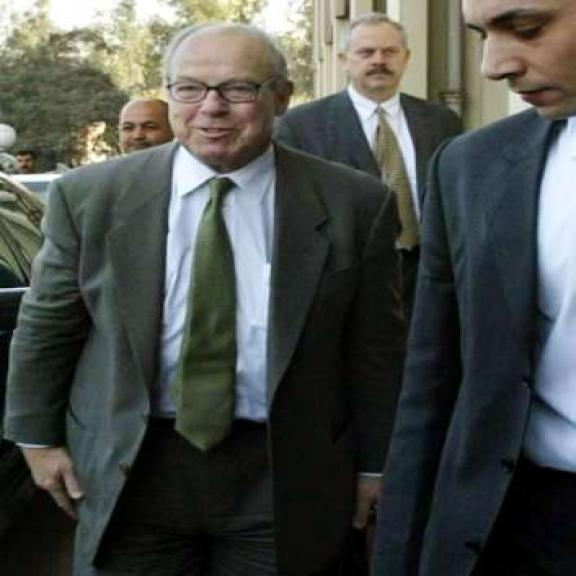face: (166, 36, 296, 163), (458, 0, 576, 123), (338, 20, 414, 96), (110, 99, 173, 158), (16, 151, 37, 171)
